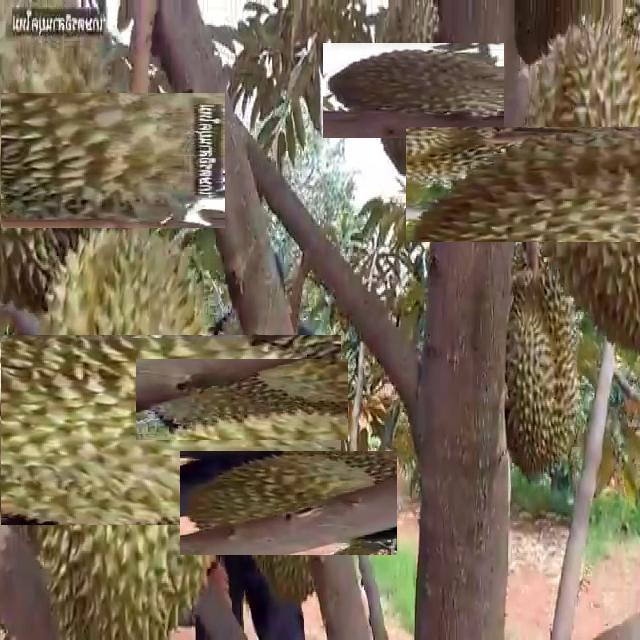durian: (0, 278, 285, 581), (464, 67, 640, 300), (0, 48, 181, 272), (208, 422, 369, 583), (169, 326, 316, 473), (496, 257, 588, 483), (344, 21, 482, 160)
